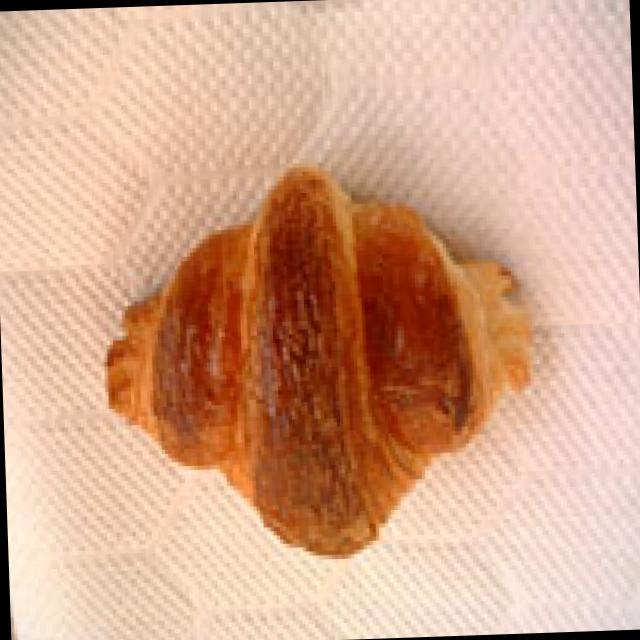Croissant: (95, 160, 545, 580)
